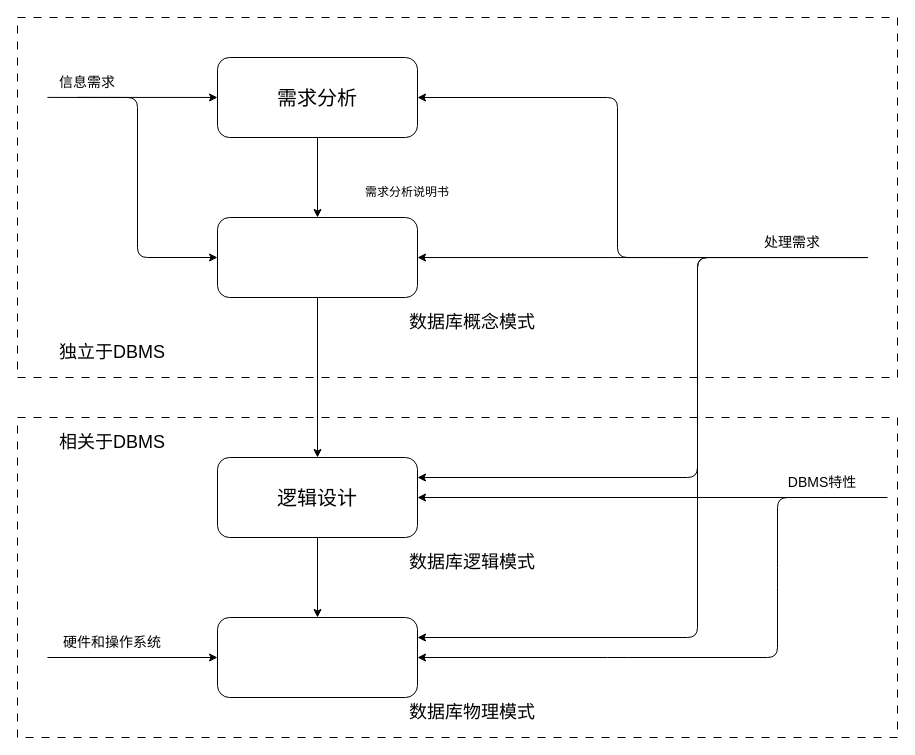
The diagram is 915 pixels wide and 755 high, and some of its shapes have lost their labels. Each missing label, with the centre of its shape:
"概念设计" belongs at point 317,257.
"物理设计" belongs at point 317,657.
